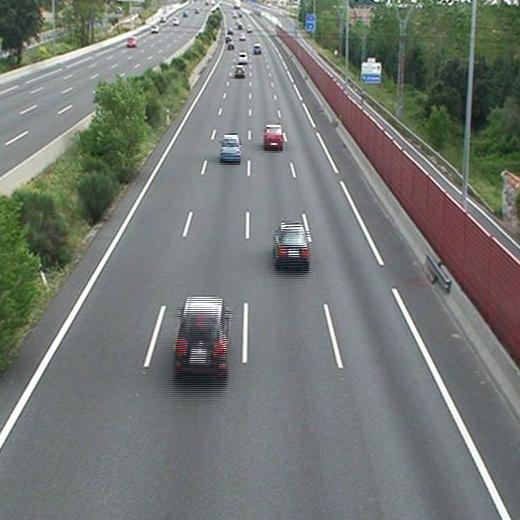car: (175, 296, 226, 370), (274, 224, 310, 265), (221, 135, 241, 161), (263, 124, 282, 148), (234, 65, 246, 76), (237, 53, 247, 63), (253, 45, 261, 53)
